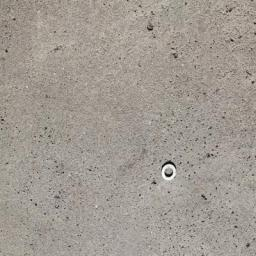FOD: (160, 156, 180, 186)
